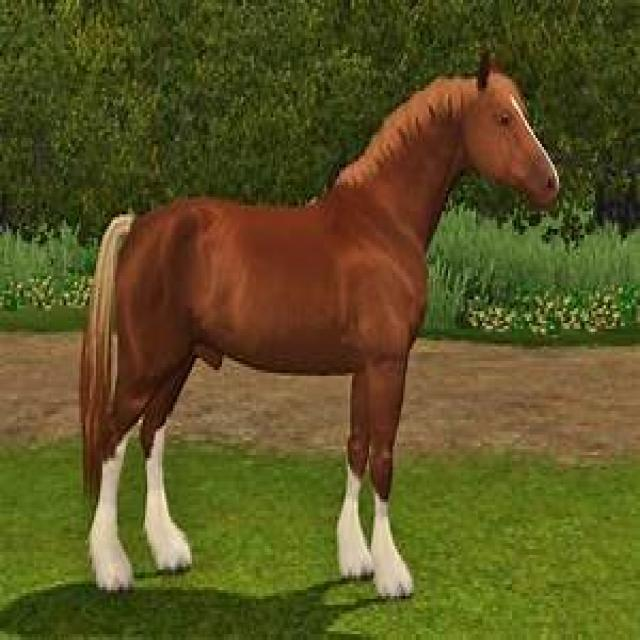animal: (81, 55, 556, 591)
